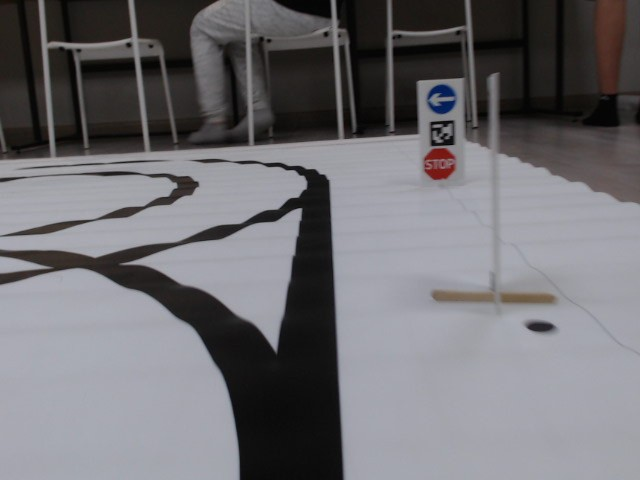Stop: (425, 148, 457, 180)
